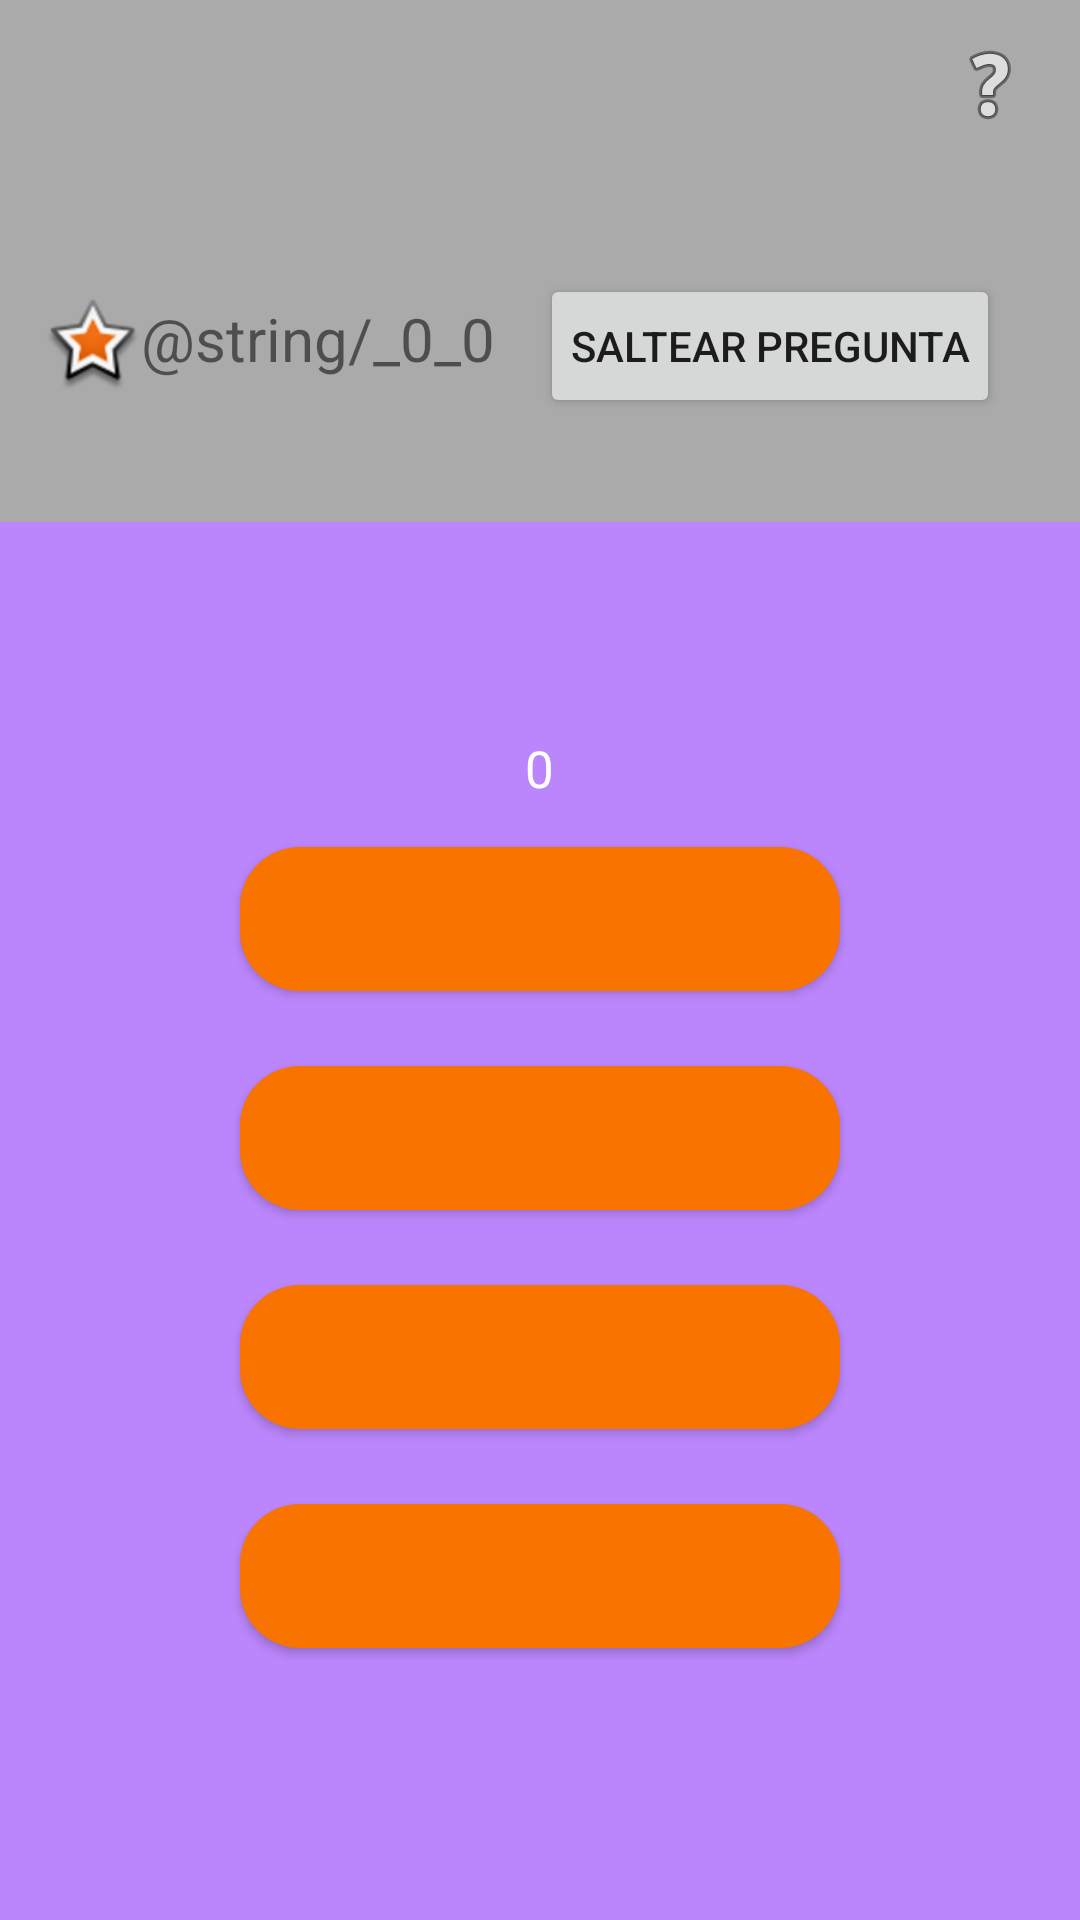

Named icons in this screenshot (1080×1920) and their centers, (x,y):
help: (990,85)
